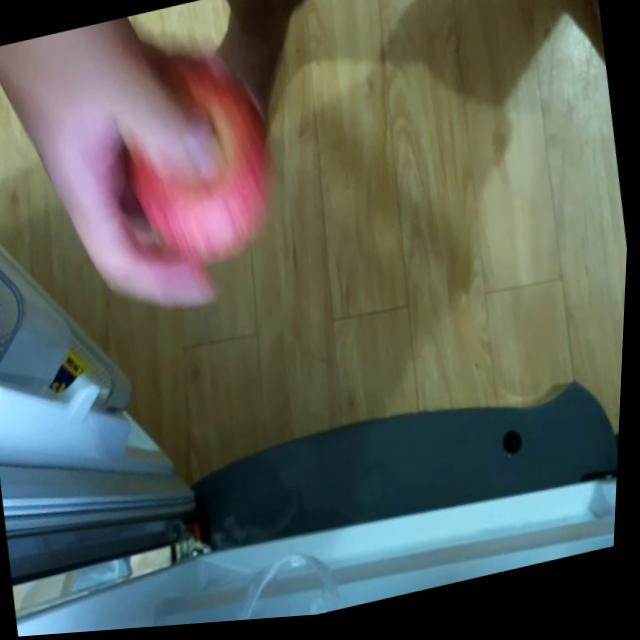apple: (114, 60, 291, 280)
